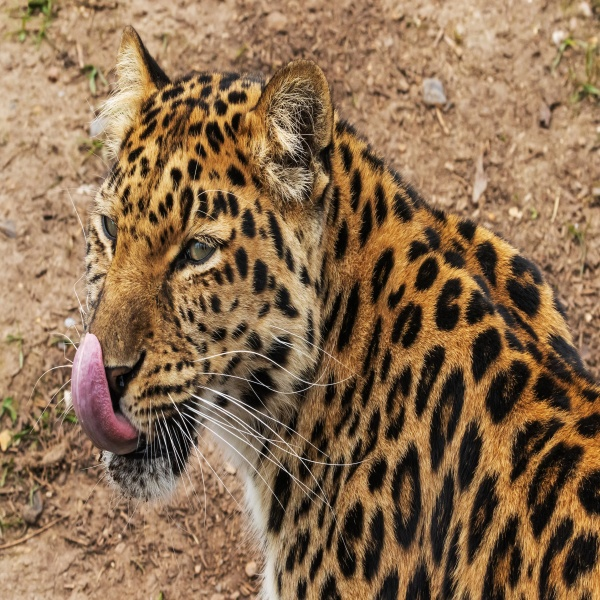Leopard: (65, 18, 600, 598)
